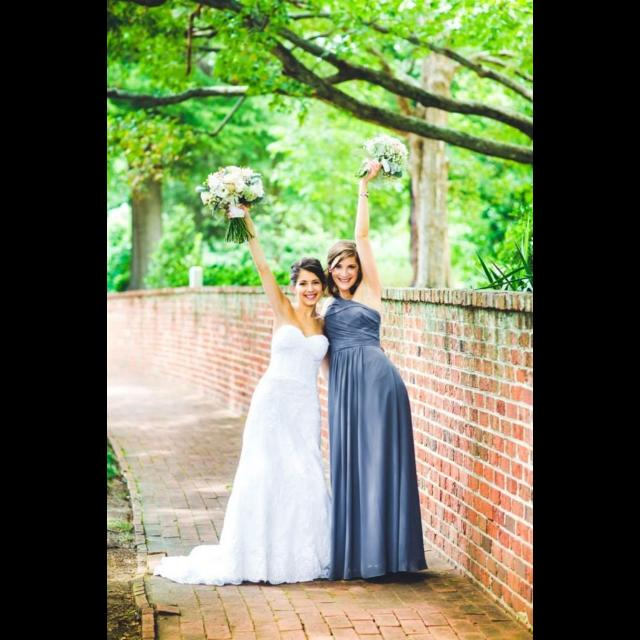Flower: (197, 166, 263, 218), (362, 132, 410, 190), (215, 178, 228, 200)
